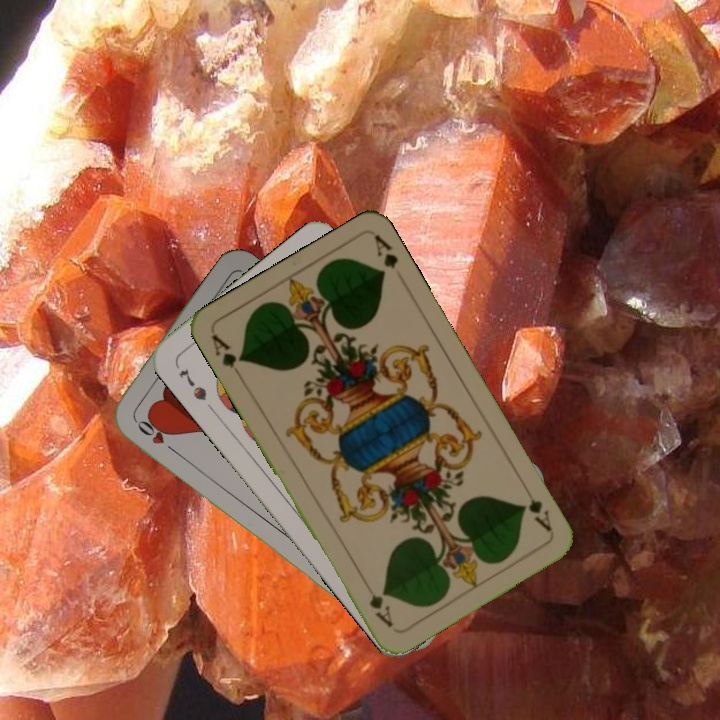GA: (207, 330, 247, 382), (518, 494, 556, 536)
HO: (130, 414, 180, 457)
S7: (175, 364, 210, 404)
